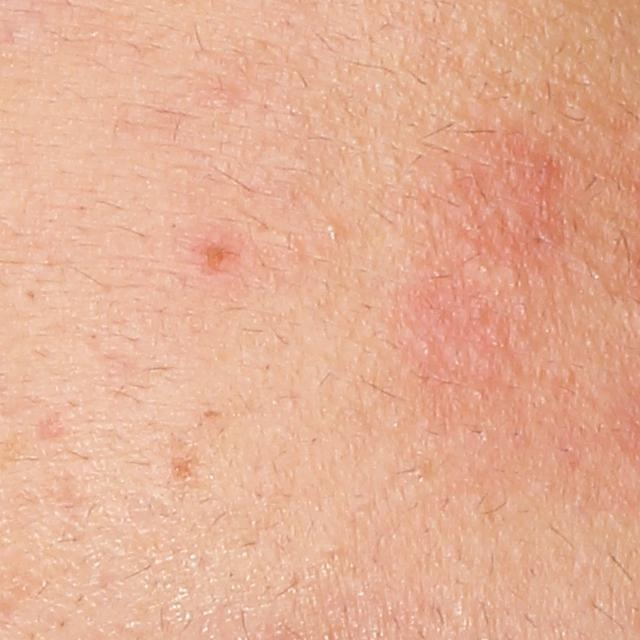comedo: (324, 219, 340, 237)
papule: (195, 236, 233, 272)
